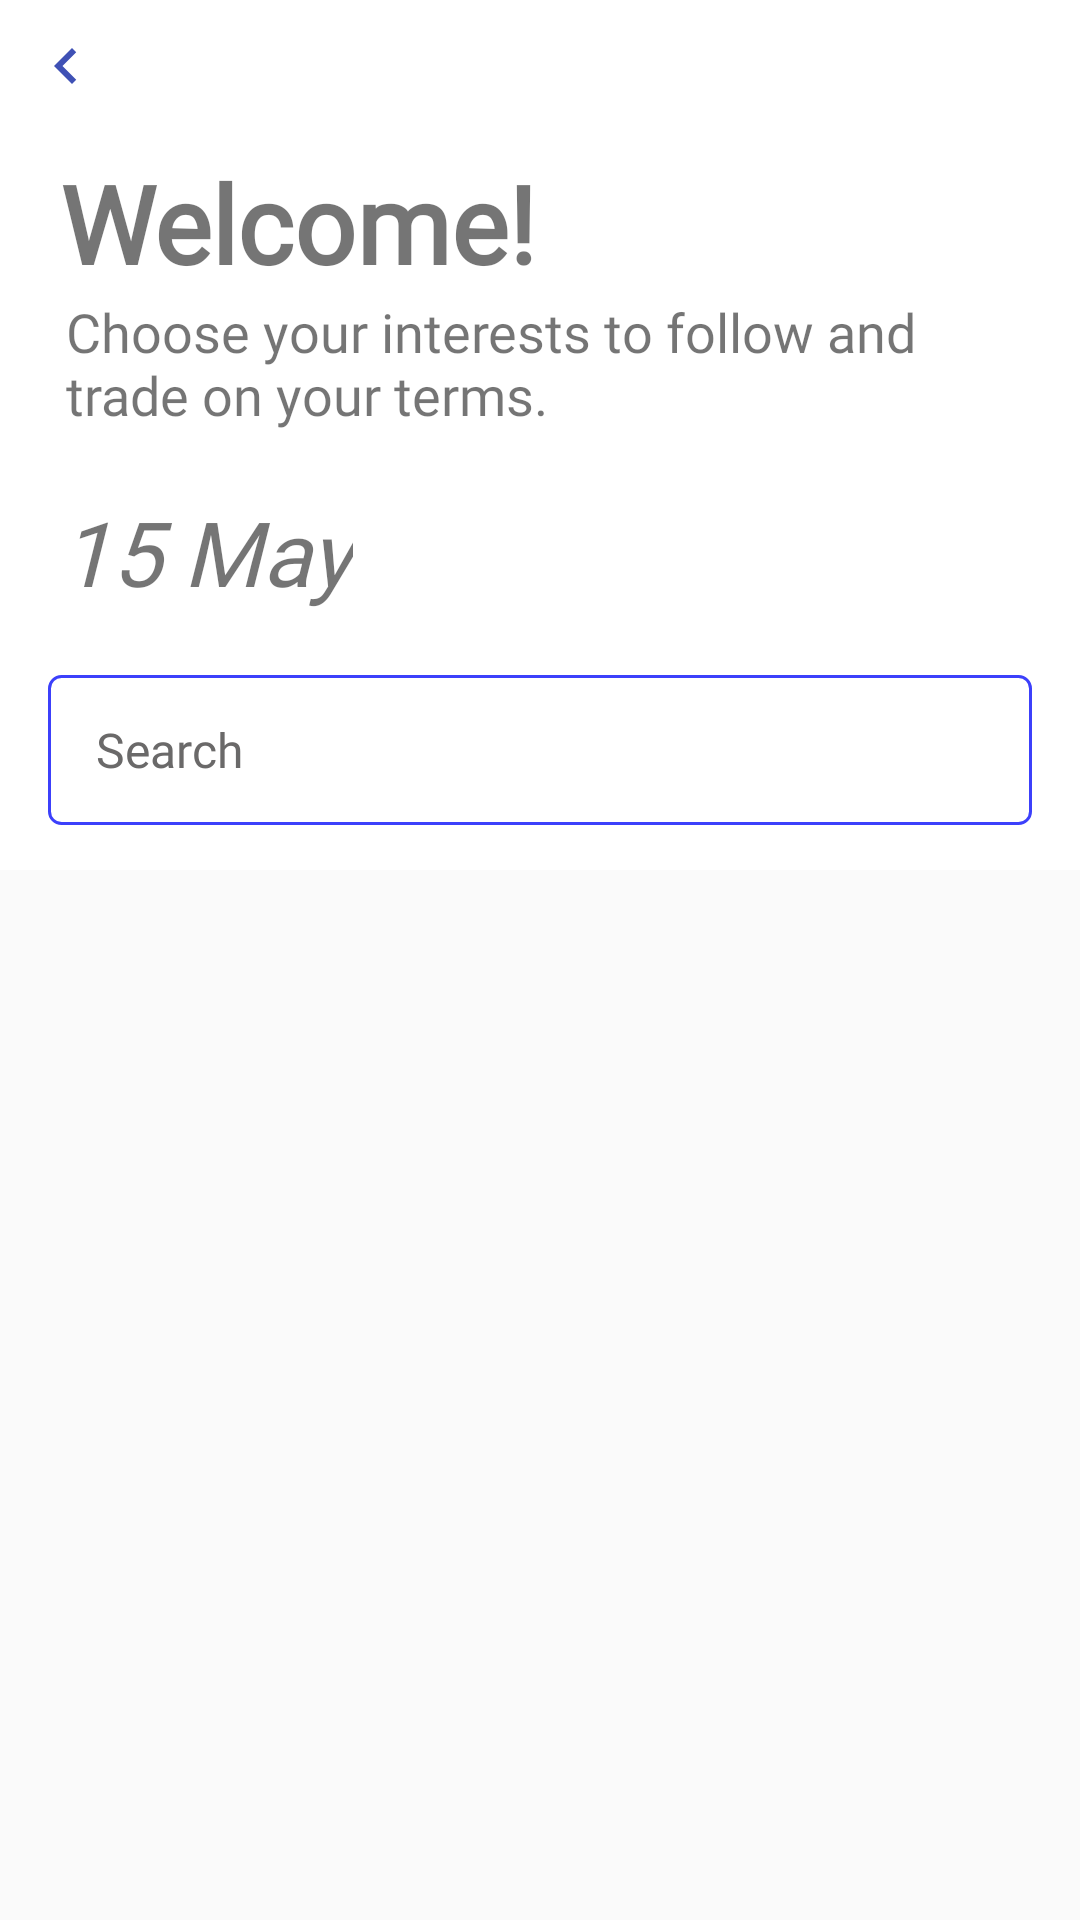

Screen size 1080 × 1920. Icon name, then its box in pixels as bbox=(x1, y1, x2, y2):
chevron left: bbox=(54, 48, 76, 84)
